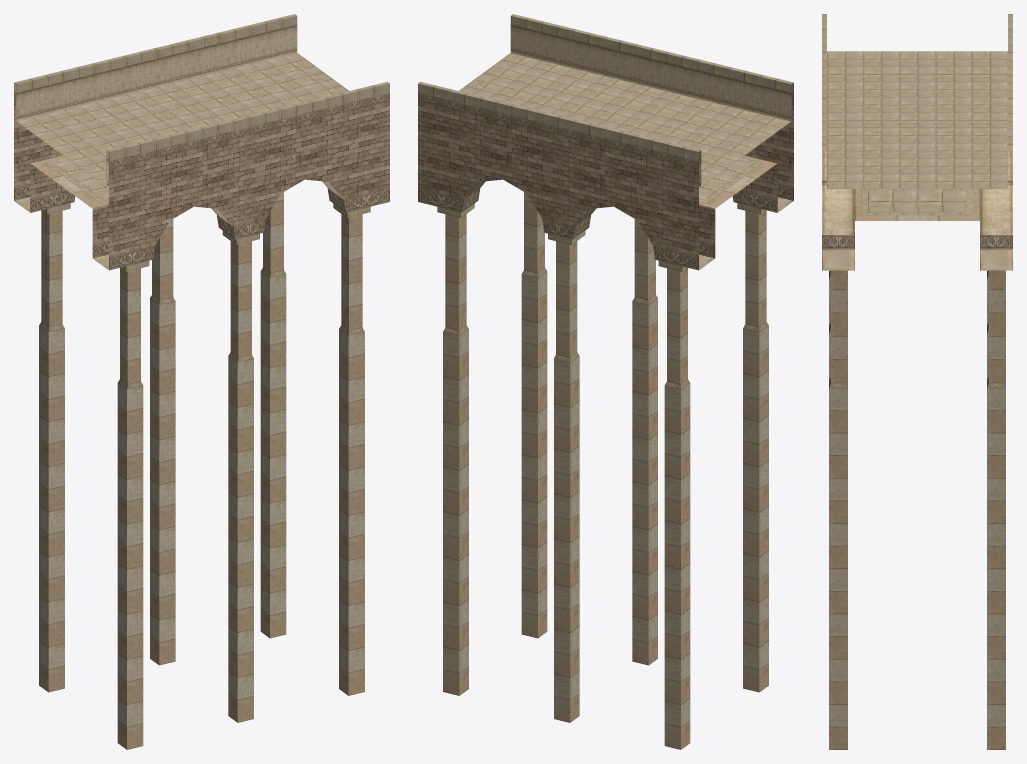
File: thm_nboo_imprv_elevated_walkway_s01_l1.fbx
3 views of the same model, side by side, from view 1: azimuth 30°, elevation 25°; view 2: azimuth 150°, elevation 25°; view 3: azimuth 270°, elevation 25° (orthographic).
Parts seen in each view (by area): view 1: mesh_node; view 2: mesh_node; view 3: mesh_node.
Boxes of the visible parts, box(x1,y1,x2,y2) form: mesh_node: box(14, 14, 389, 749); mesh_node: box(418, 14, 793, 749); mesh_node: box(822, 14, 1012, 749).
Size of the model in its own units: 8.88 by 18.3 by 5.2.
